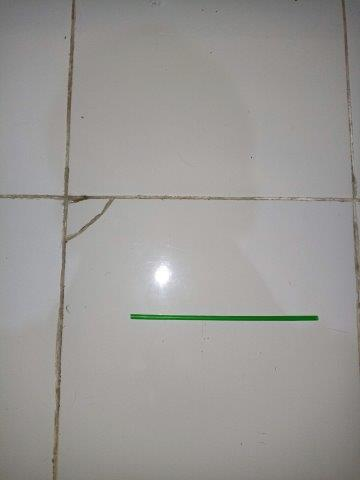sedotan: (132, 314, 319, 321)
